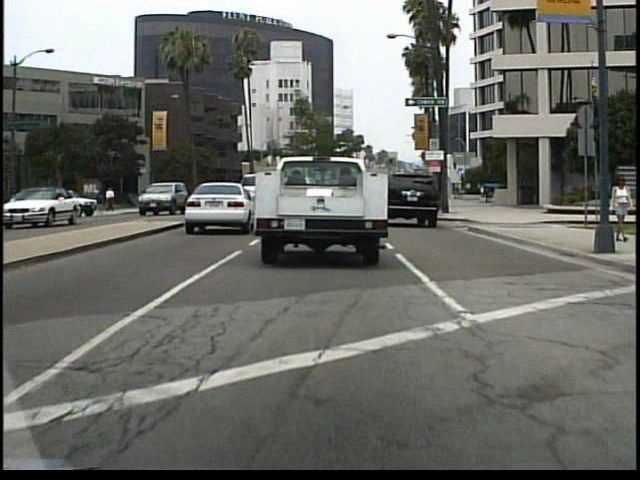person: (607, 169, 632, 245), (137, 182, 153, 212), (106, 185, 117, 215), (97, 187, 106, 213)
